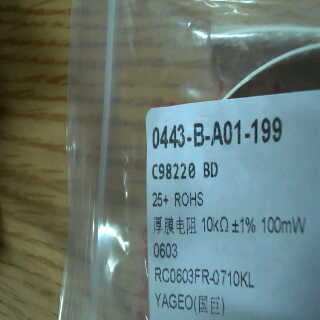10kR: (197, 212, 230, 235)
